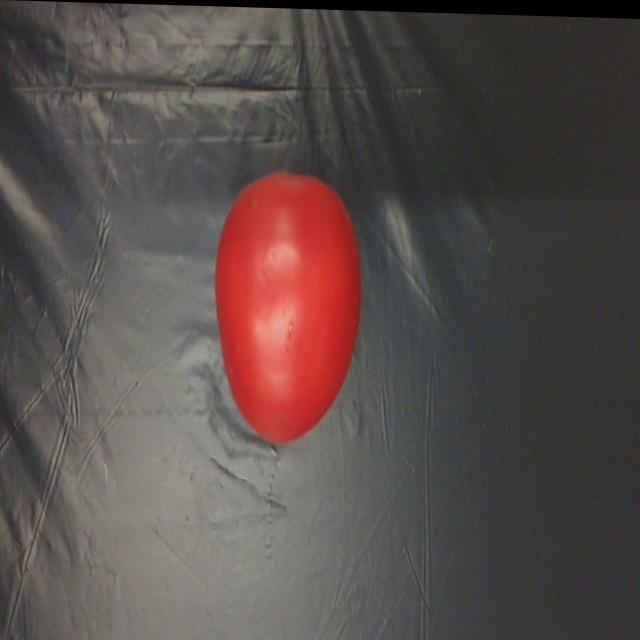kirmizi: (200, 145, 363, 460)
